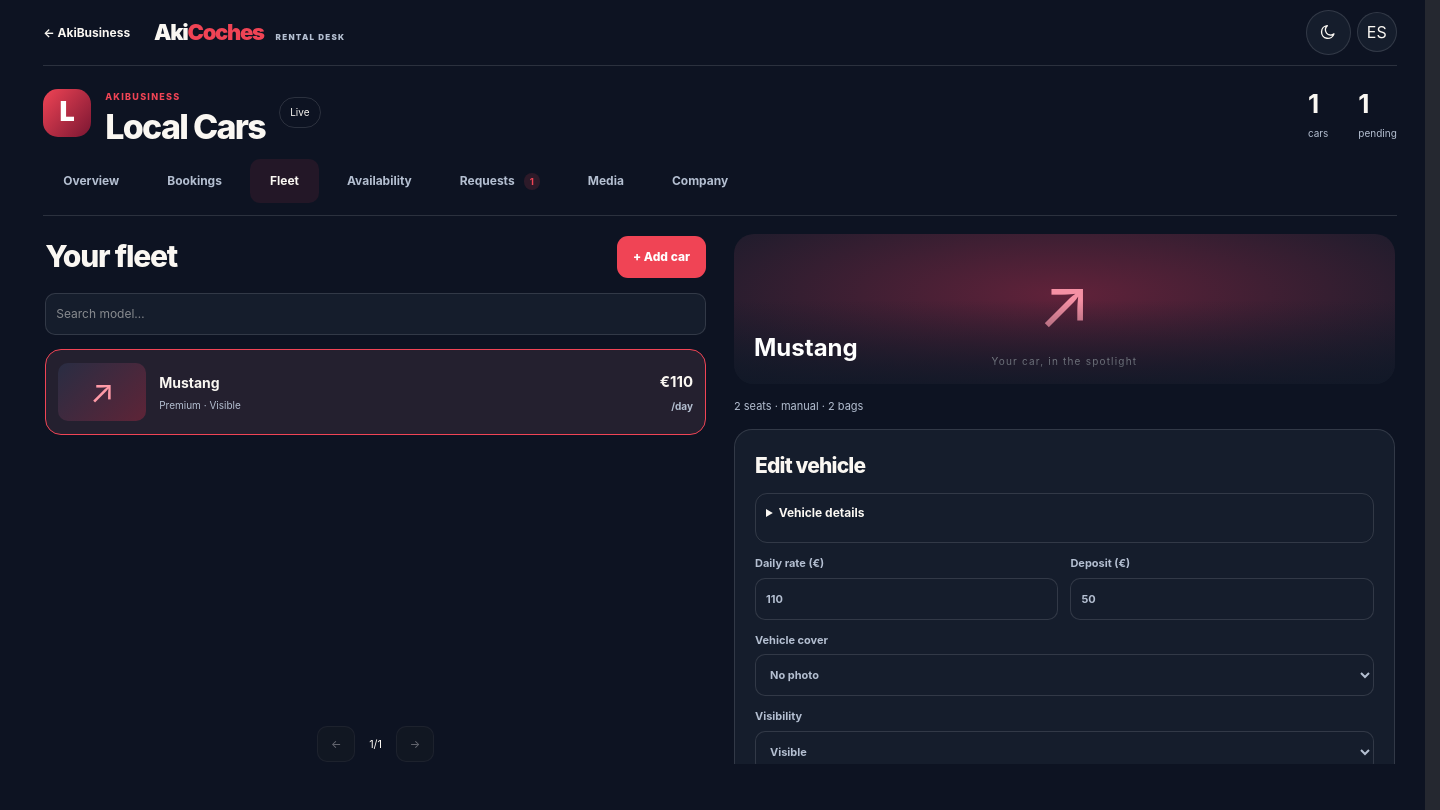
it: rental desk › opens media without burying it below fleet forms
What coordinates should you click on to do the following:
click the button "Media"
I would click on:
 (606, 181)
Its box is [568, 159, 644, 203].
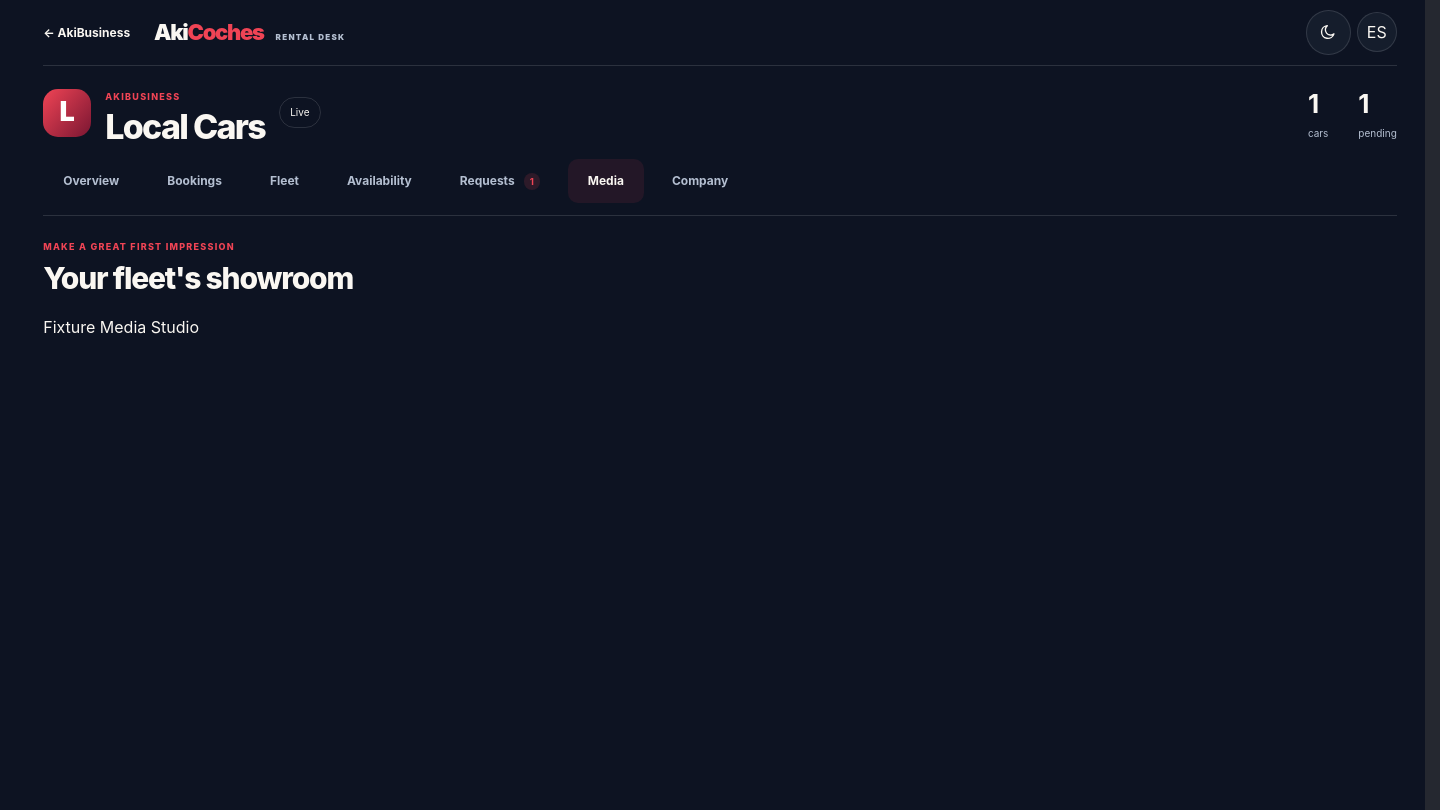
Now the text "Fixture Media Studio" is shown, box [43, 317, 199, 337]
Now the label labelled "Daily rate (€)" is gone
